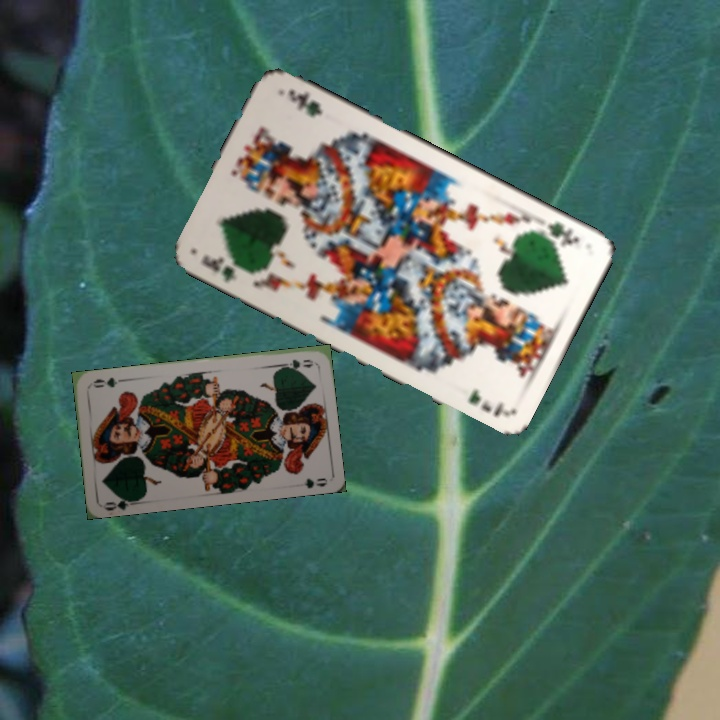GK: (537, 216, 582, 250), (197, 251, 240, 285)
GO: (101, 492, 141, 513), (275, 355, 316, 372)
